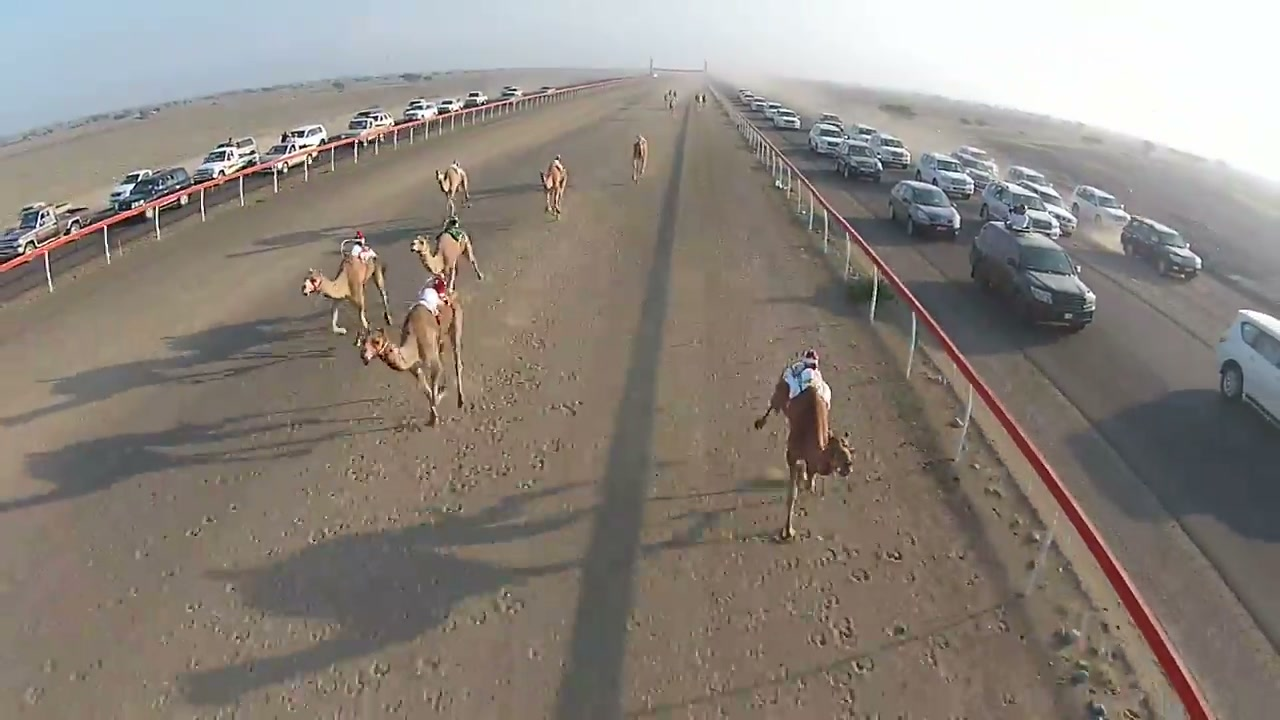animal_footprint: (68, 382, 575, 688), (779, 522, 902, 711)
